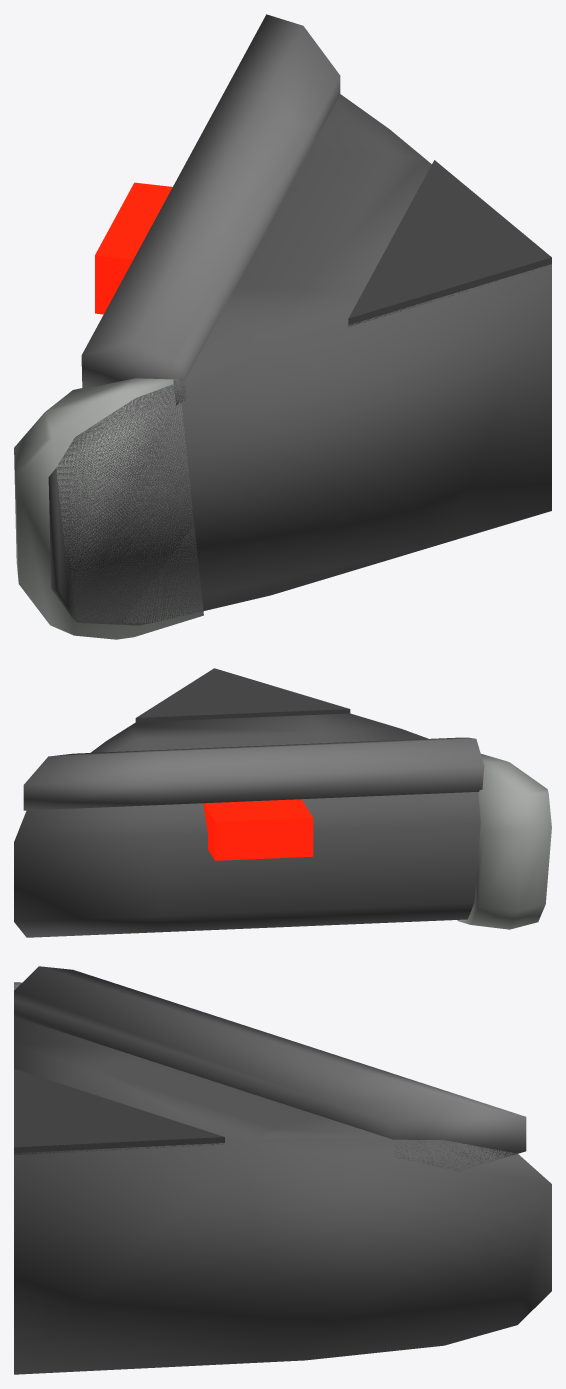
File: newshg-165.glb
3 renders of one model, top to bottom at view 1: azimuth 30°, elevation 25°; view 2: azimuth 150°, elevation 25°; view 3: azimuth 270°, elevation 25°, orthographic. The views are drawn at different scales.
Parts seen in each view (by area): view 1: newshg-165; view 2: newshg-165; view 3: newshg-165.
Part boxes in pixels (bbox=[...]): newshg-165: bbox=[14, 14, 551, 639]; newshg-165: bbox=[14, 668, 551, 937]; newshg-165: bbox=[14, 966, 551, 1374].
Bounding box in the file's own units: 0.7458 × 0.4483 × 0.7442.
